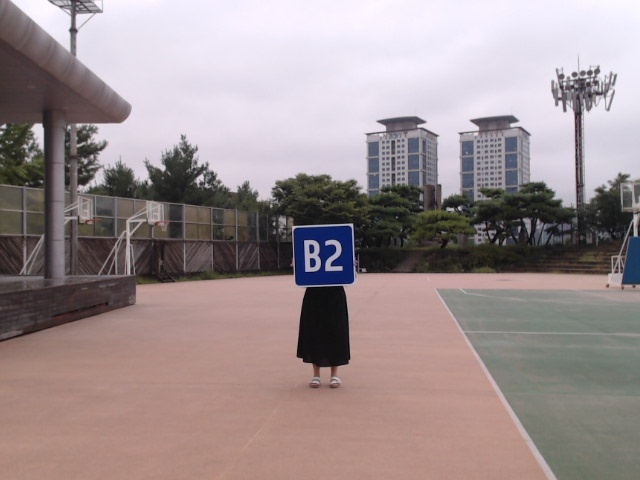delivery_b2: (294, 225, 355, 287)
